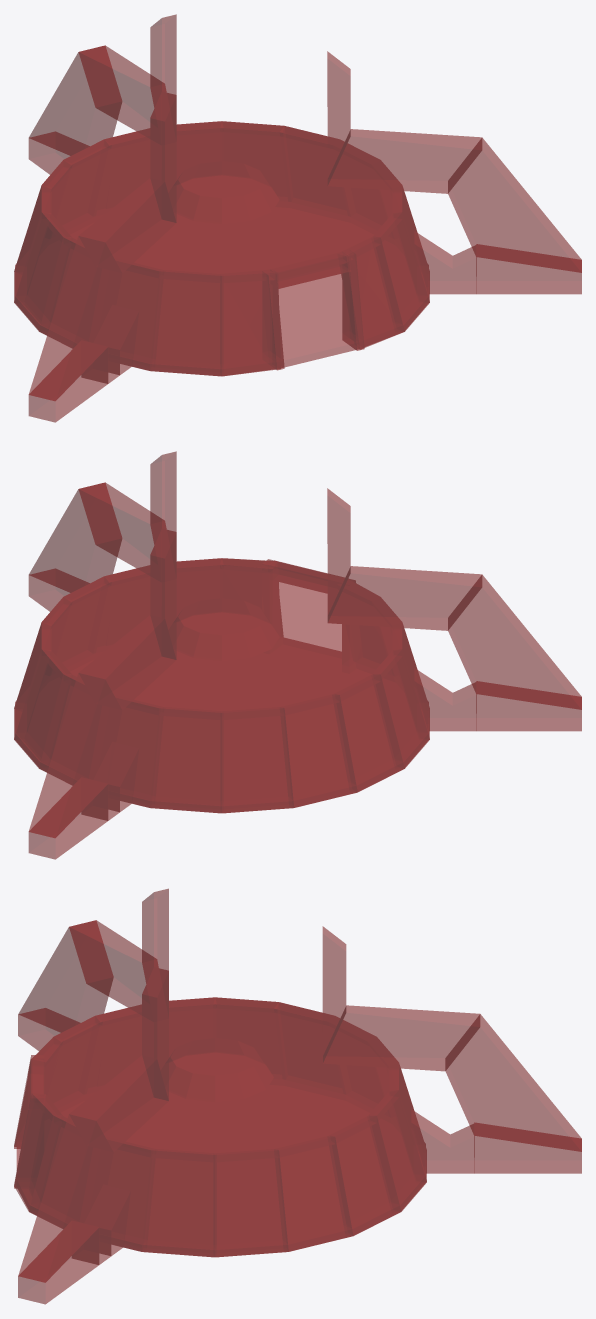
File: SM_Bld_Corp_Radar_01_Collision.fbx
3 renders of one model, top to bottom at view 1: azimuth 30°, elevation 25°; view 2: azimuth 150°, elevation 25°; view 3: azimuth 270°, elevation 25°, orthographic.
Parts seen in each view (by area): view 1: SM_Bld_Corp_Radar_01_Collision; view 2: SM_Bld_Corp_Radar_01_Collision; view 3: SM_Bld_Corp_Radar_01_Collision.
Boxes of the visible parts, x1,y1,x2,y2 form: SM_Bld_Corp_Radar_01_Collision: [14, 14, 581, 422]; SM_Bld_Corp_Radar_01_Collision: [14, 451, 581, 859]; SM_Bld_Corp_Radar_01_Collision: [14, 888, 581, 1304].
Size of the model in its own units: 2670 by 1084 by 2329.
